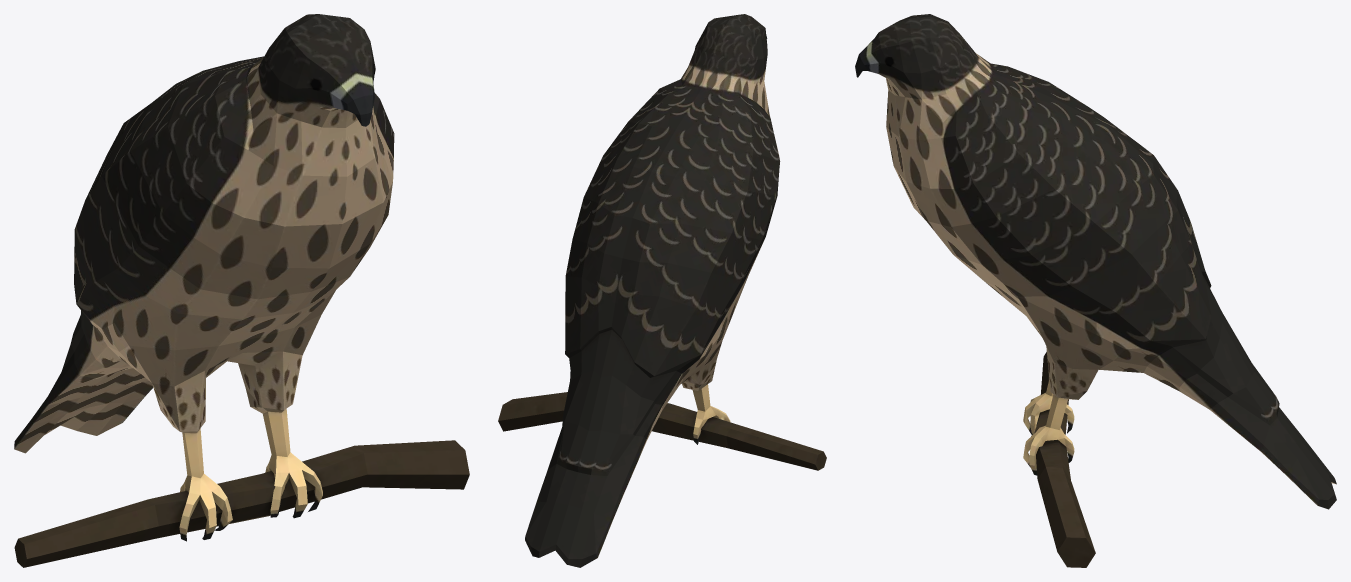
File: 5a9c1FYhnVb.glb
3 renders of one model, left to right at view 1: azimuth 30°, elevation 25°; view 2: azimuth 150°, elevation 25°; view 3: azimuth 270°, elevation 25°, orthographic. The views are drawn at different scales.
Parts seen in each view (by area): view 1: NorthernGoshawk_Mesh; view 2: NorthernGoshawk_Mesh; view 3: NorthernGoshawk_Mesh.
Part boxes in pixels (x1,y1,x2,y2): NorthernGoshawk_Mesh: (14,14,469,567); NorthernGoshawk_Mesh: (498,14,826,567); NorthernGoshawk_Mesh: (855,14,1336,567).
Size of the model in its own units: 0.7705 by 1 by 0.9114.
Materials: 1 (1 with a texture image).
